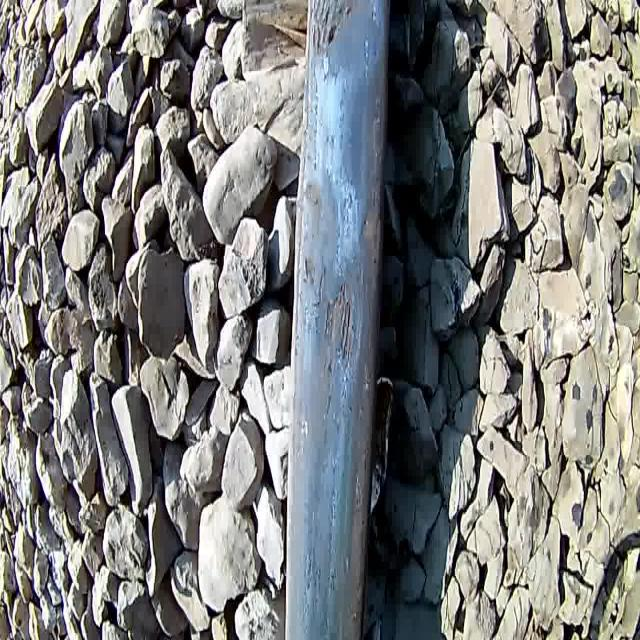Squats: (280, 244, 394, 402), (290, 0, 402, 91)
